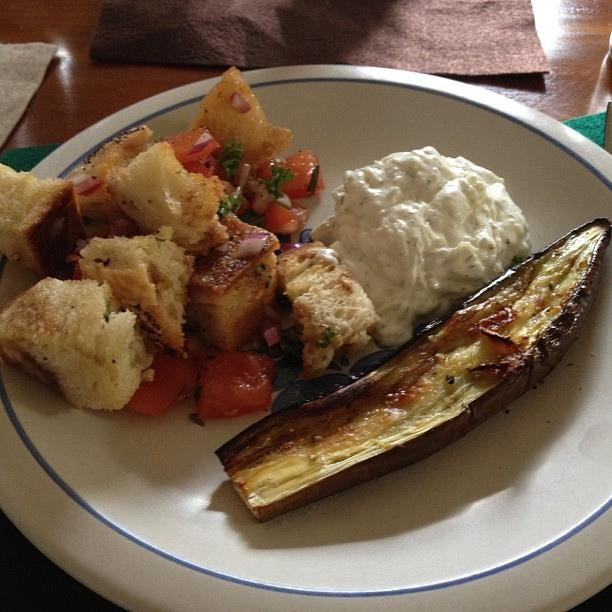eggplant: (212, 216, 610, 522)
tomato: (198, 349, 276, 421), (127, 344, 197, 417), (156, 126, 225, 180), (257, 148, 325, 200), (264, 200, 310, 235)
